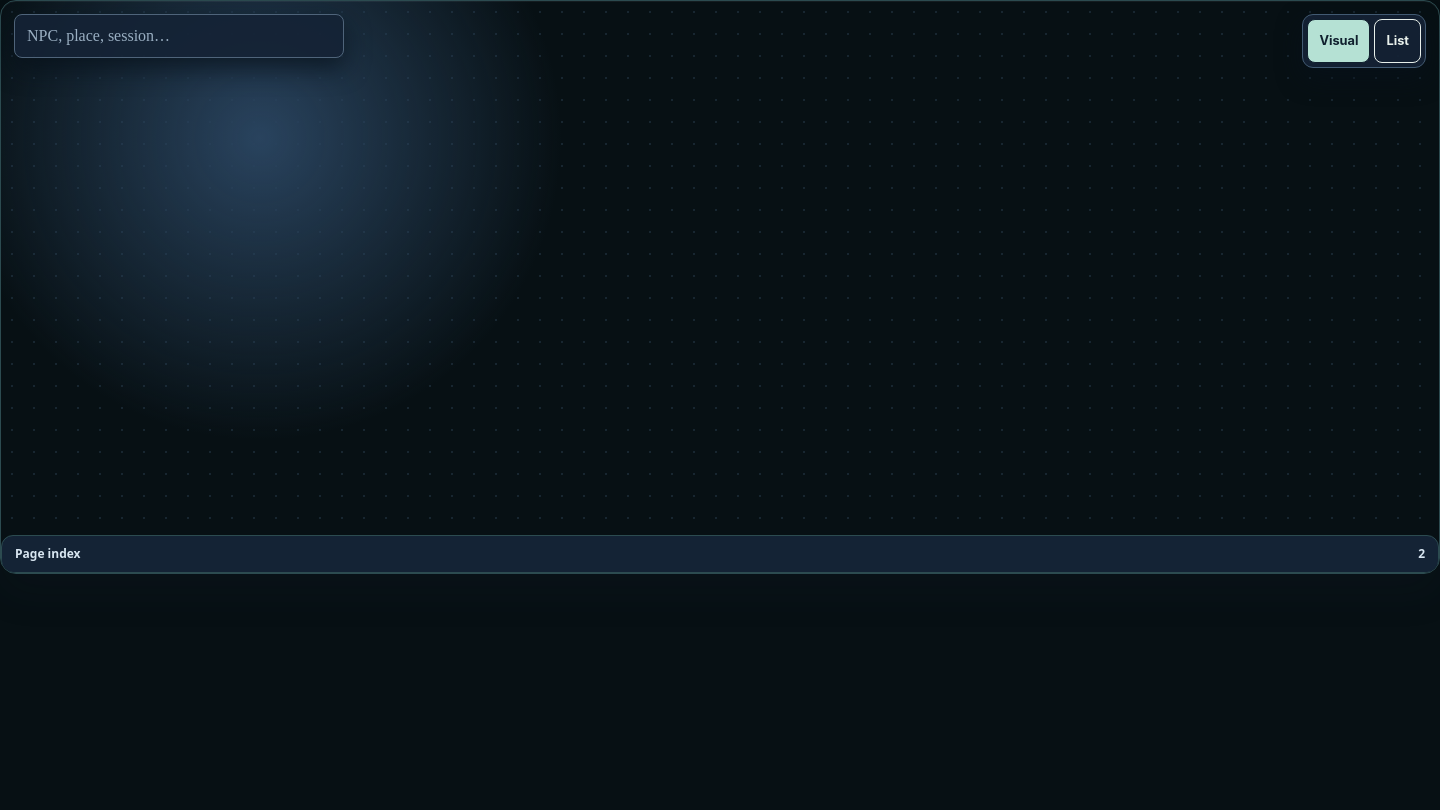
offers an explicit non-WebGL list presentation
The width and height of the screenshot is (1440, 810).
Click the button "List": (1398, 41) top-left (1374, 19), bottom-right (1421, 63)
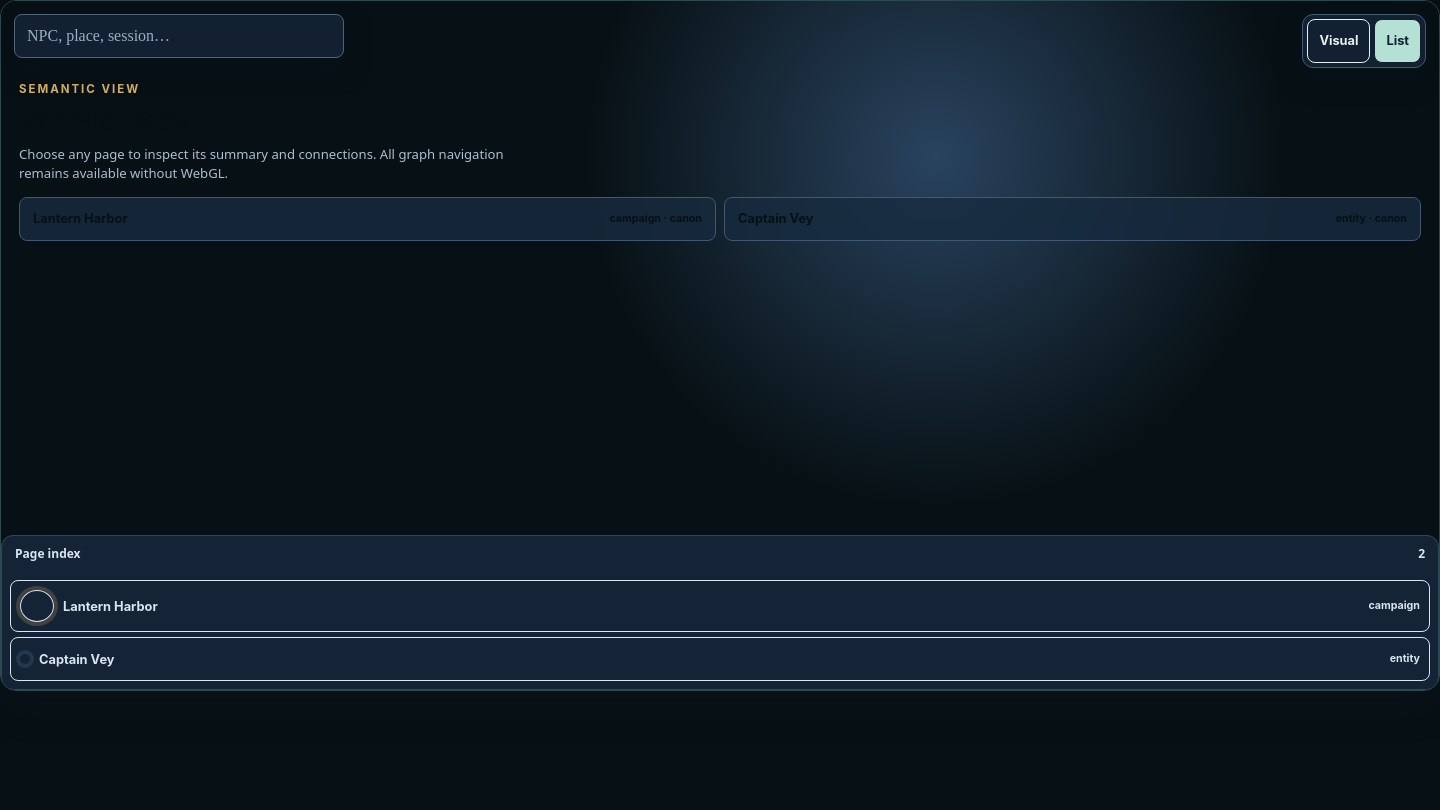
Now the text "All graph navigation remains available without WebGL" is shown, box top-left (19, 144), bottom-right (504, 182)
Click the button "Captain Vey entity · canon": (776, 219) top-left (724, 197), bottom-right (1421, 241)
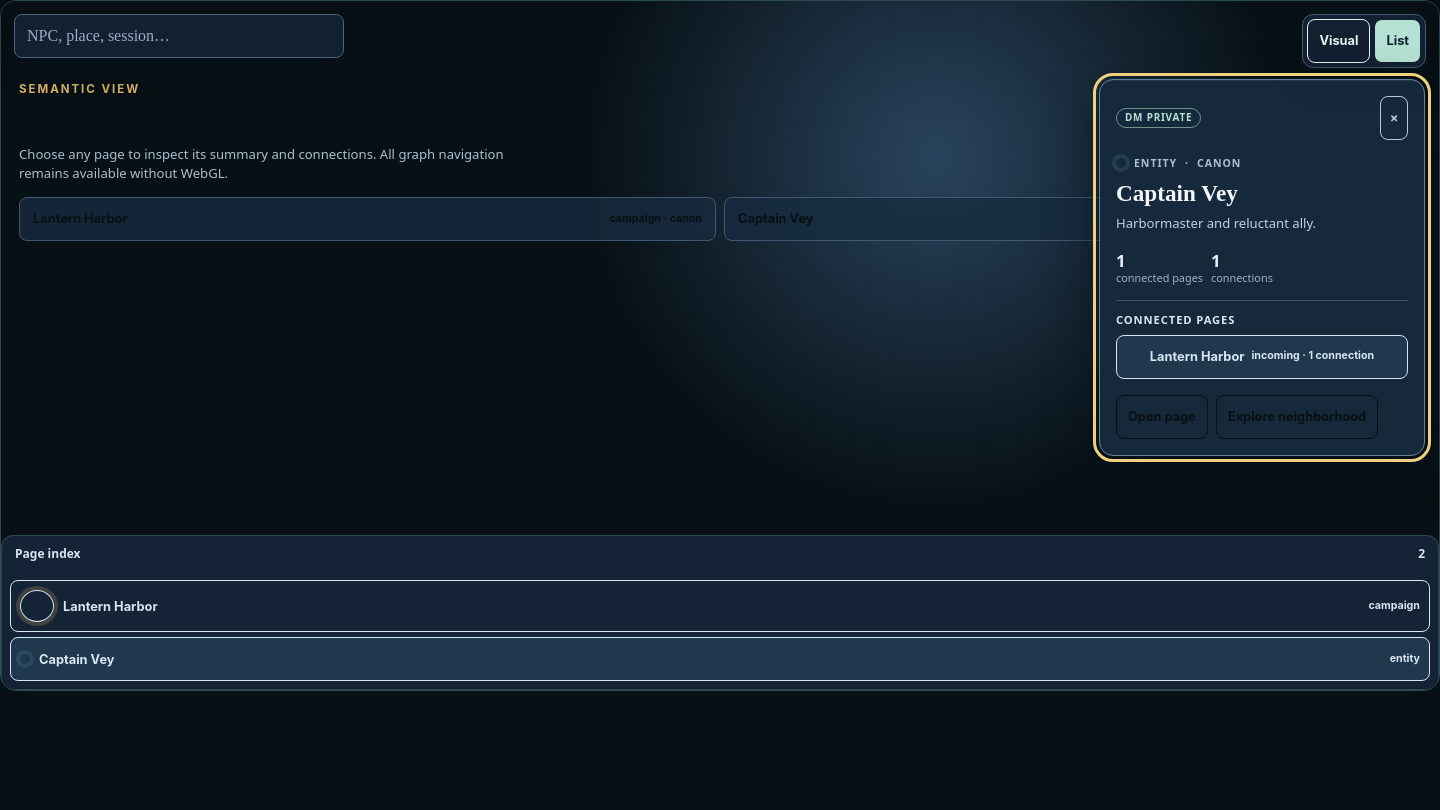
Now the dialog "Captain Vey" is shown, box top-left (1099, 79), bottom-right (1425, 456)
